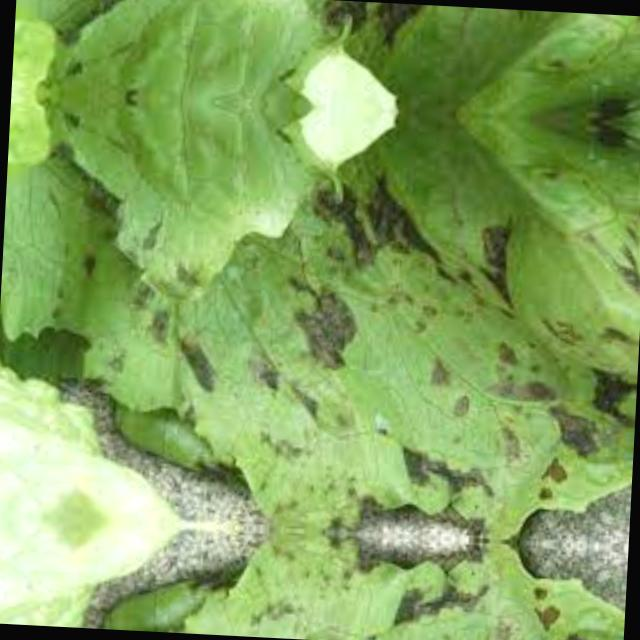Lettuce - Anthracnose: (24, 100, 640, 548), (17, 516, 625, 640), (46, 0, 640, 115)
